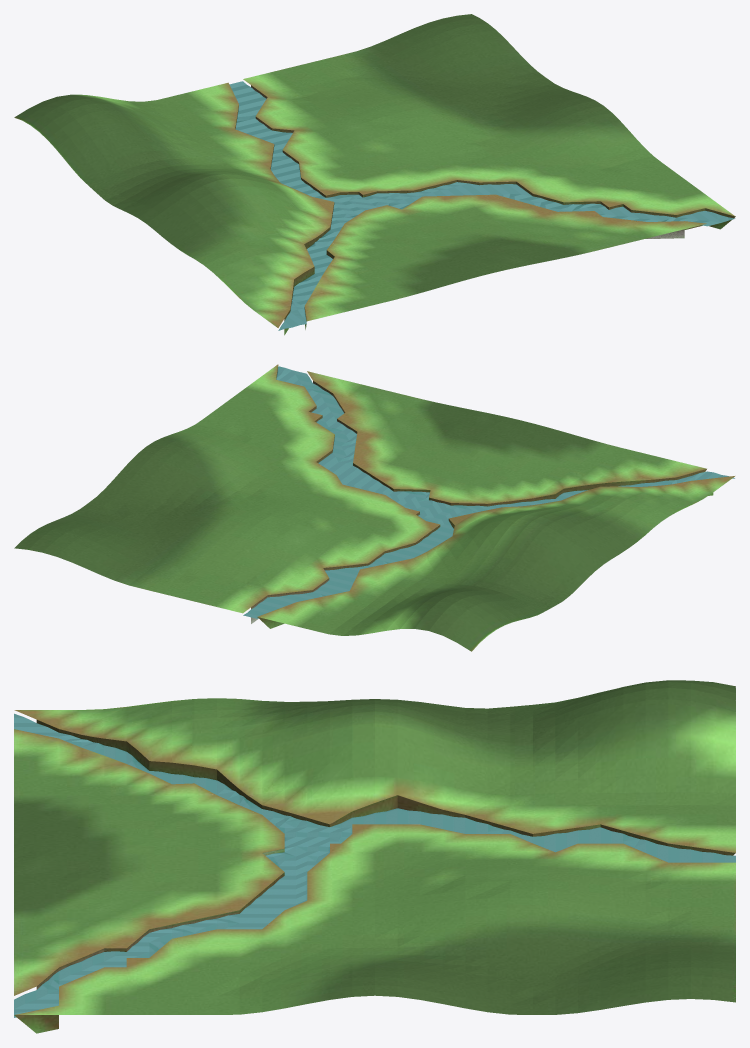
The model's file is Forest-Ground.glb.
3 renders of one model, top to bottom at view 1: azimuth 30°, elevation 25°; view 2: azimuth 150°, elevation 25°; view 3: azimuth 270°, elevation 25°, orthographic. The views are drawn at different scales.
Visible parts, largest first — view 1: Ground, Water; view 2: Ground, Water; view 3: Ground, Water.
Part boxes in pixels (left/top/right/bottom): Ground: left=14, top=14, right=735, bottom=335; Water: left=229, top=81, right=735, bottom=330; Ground: left=14, top=364, right=734, bottom=651; Water: left=243, top=366, right=734, bottom=618; Ground: left=14, top=680, right=735, bottom=1033; Water: left=14, top=713, right=735, bottom=1017.
Bounding box in the file's own units: 63 × 7.12 × 63.
Materials: 2 (2 with a texture image).
